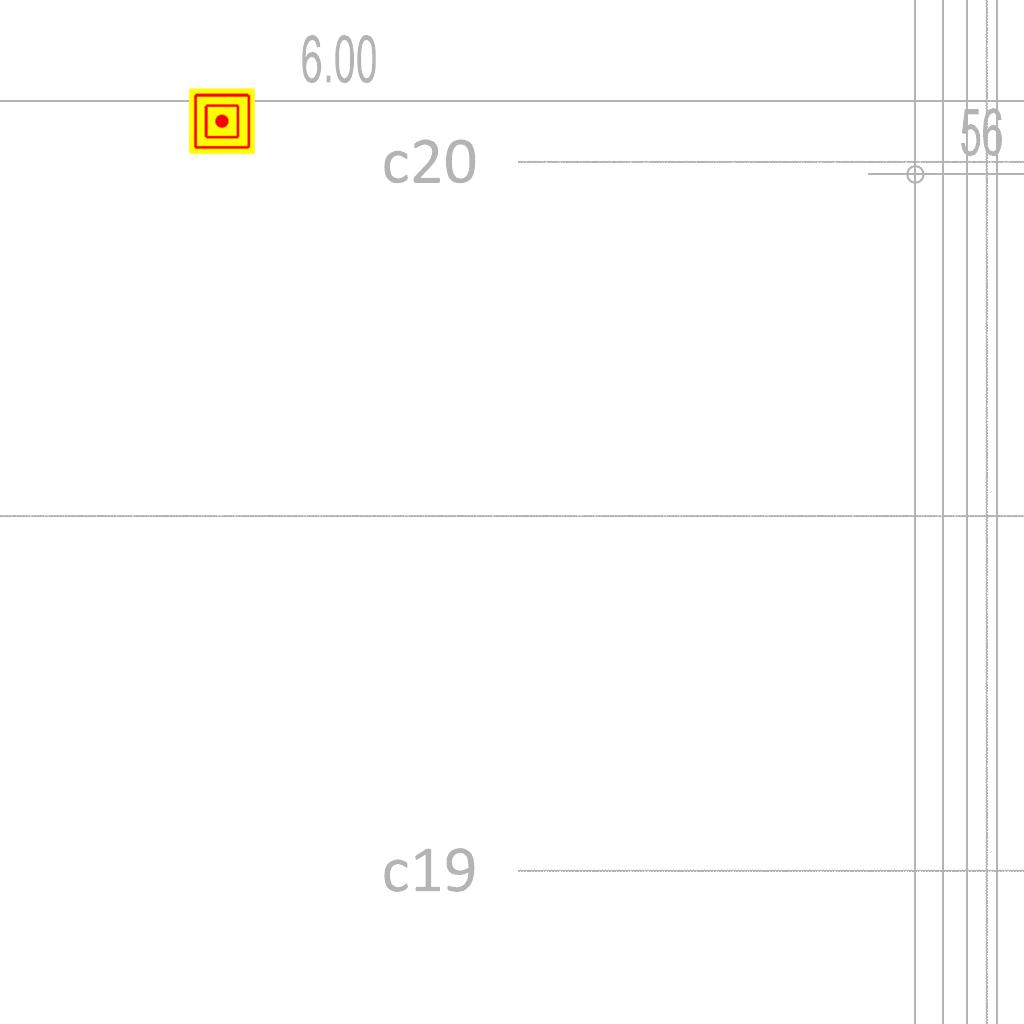NAM-Nichtautomatischer_Melder: (189, 88, 255, 154)
